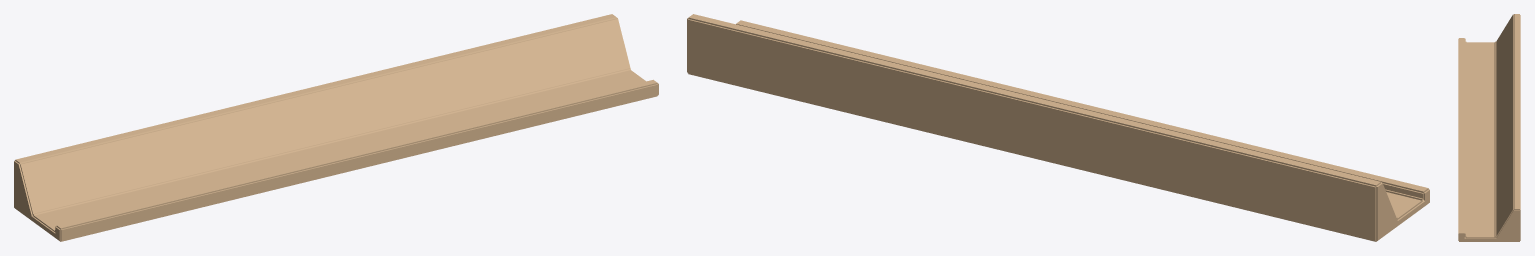
File: rack.glb
The picture shows the model from 3 angles, left to right: view 1: azimuth 30°, elevation 25°; view 2: azimuth 150°, elevation 25°; view 3: azimuth 270°, elevation 25°; orthographic projection. The views are drawn at different scales.
Parts seen in each view (by area): view 1: Rack; view 2: Rack; view 3: Rack.
Part boxes in pixels (x1=…): Rack: x1=14, y1=14, x2=658, y2=241; Rack: x1=687, y1=14, x2=1429, y2=241; Rack: x1=1458, y1=14, x2=1520, y2=241.
Size of the model in its own units: 0.74 by 0.058 by 0.1.
